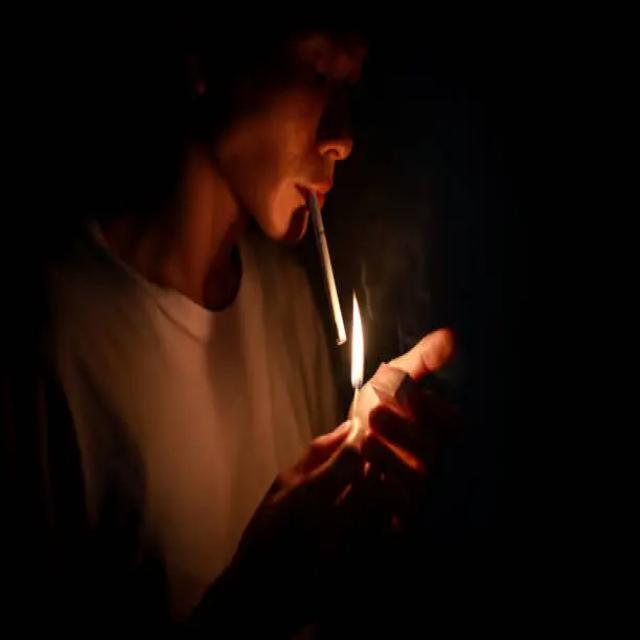fire: (350, 291, 365, 388)
